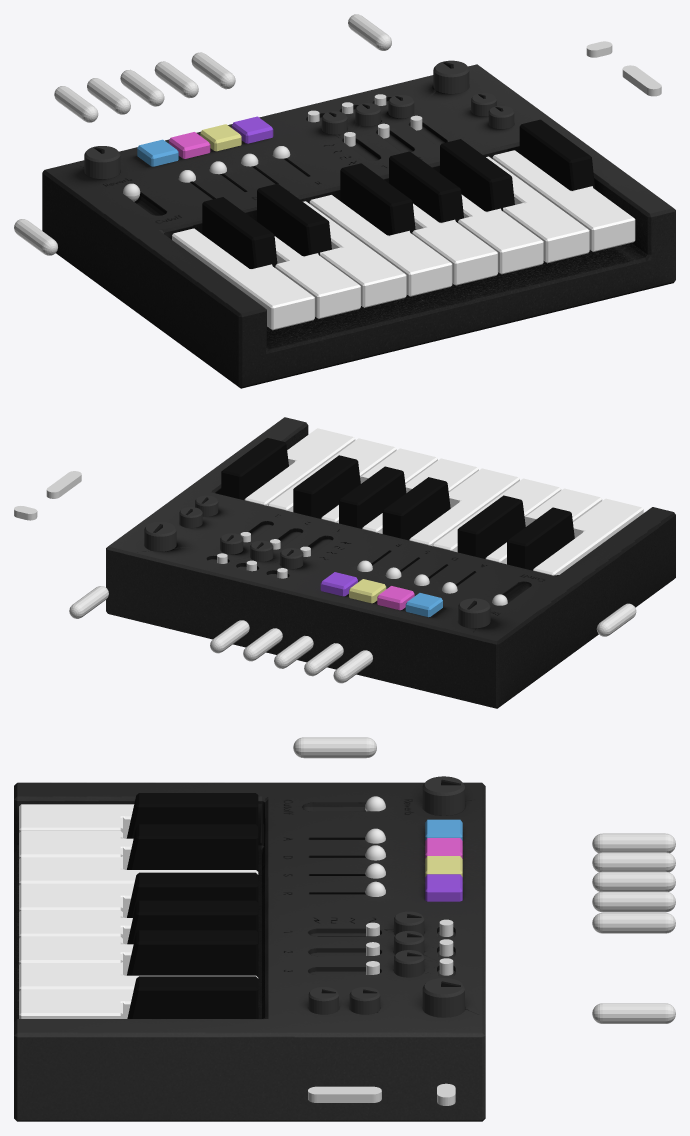
Rendered from 3D-synth-1k.gltf.
The picture shows the model from 3 angles, top to bottom: view 1: azimuth 30°, elevation 25°; view 2: azimuth 150°, elevation 25°; view 3: azimuth 270°, elevation 25°; orthographic projection. The views are drawn at different scales.
Parts seen in each view (by area): view 1: cabinet, Key@0-C3, Key@12-C4, Key@5-F3, Key@11-B3, Key@4-E3, Key@3-Eb3, Key@6-Gb3, Key@2-D3, Key@1-Db3, Key@7-G3, Key@10-Bb3 (+17 smaller); view 2: cabinet, Key@0-C3, Key@5-F3, Key@12-C4, Key@3-Eb3, Key@6-Gb3, Key@1-Db3, Key@10-Bb3, Key@13-Db4, Key@8-Ab3, Key@11-B3, Key@4-E3 (+20 smaller); view 3: cabinet, Key@10-Bb3, Key@3-Eb3, Key@13-Db4, Key@1-Db3, Key@8-Ab3, Key@6-Gb3, Key@4-E3, Key@12-C4, Key@11-B3, Key@5-F3, Key@0-C3 (+22 smaller).
Part boxes in pixels (box(x1,y1,x2,y2)): cabinet: box(42, 64, 675, 388); Key@0-C3: box(172, 228, 314, 330); Key@12-C4: box(492, 150, 635, 251); Key@5-F3: box(309, 195, 452, 296); Key@11-B3: box(486, 156, 589, 263); Key@4-E3: box(303, 201, 406, 307); Key@3-Eb3: box(257, 183, 331, 256); Key@6-Gb3: box(340, 163, 415, 235); Key@2-D3: box(274, 236, 360, 318); Key@1-Db3: box(202, 197, 277, 268); Key@7-G3: box(412, 203, 497, 285); Key@10-Bb3: box(440, 139, 514, 211); cabinet: box(106, 417, 675, 708); Key@0-C3: box(533, 498, 643, 575); Key@5-F3: box(409, 468, 519, 546); Key@12-C4: box(244, 428, 355, 505); Key@3-Eb3: box(457, 495, 525, 558); Key@6-Gb3: box(382, 477, 450, 540); Key@1-Db3: box(507, 507, 574, 570); Key@10-Bb3: box(293, 455, 360, 518); Key@13-Db4: box(221, 438, 288, 500); Key@8-Ab3: box(339, 466, 406, 528); Key@11-B3: box(268, 438, 396, 511); Key@4-E3: box(432, 478, 561, 552); cabinet: box(14, 782, 485, 1121); Key@10-Bb3: box(127, 930, 258, 977); Key@3-Eb3: box(127, 824, 258, 871); Key@13-Db4: box(127, 976, 258, 1018); Key@1-Db3: box(126, 793, 258, 838); Key@8-Ab3: box(127, 900, 258, 944); Key@6-Gb3: box(127, 872, 258, 917); Key@4-E3: box(19, 856, 258, 885); Key@12-C4: box(19, 989, 133, 1018); Key@11-B3: box(19, 962, 258, 991); Key@5-F3: box(19, 883, 134, 917); Key@0-C3: box(19, 804, 134, 838).
Size of what is drawn, in the model's own units: 2.88 by 0.427 by 2.21.
Materials: 11 (1 with a texture image).
